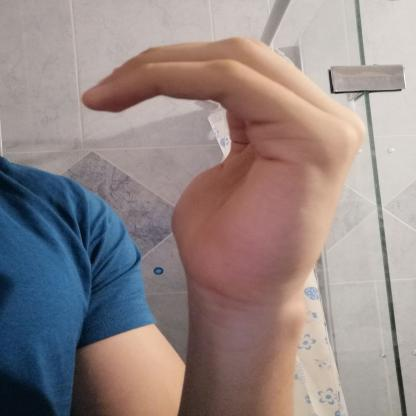HAA: (61, 27, 396, 326)
